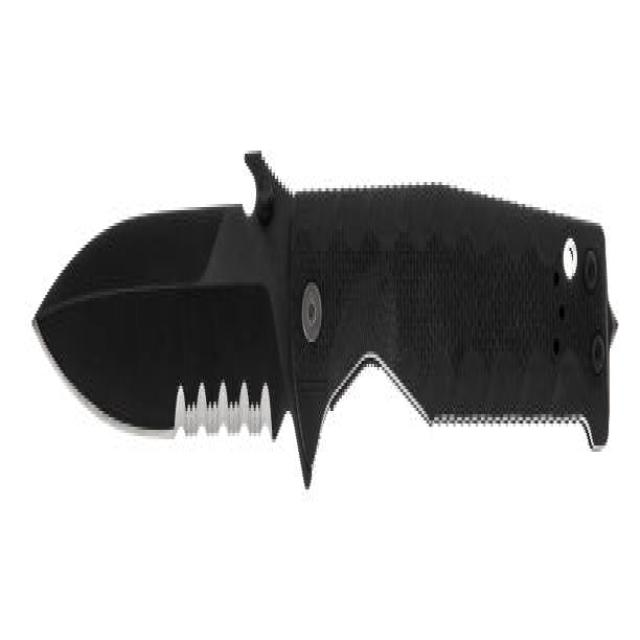knife: (29, 129, 616, 503)
